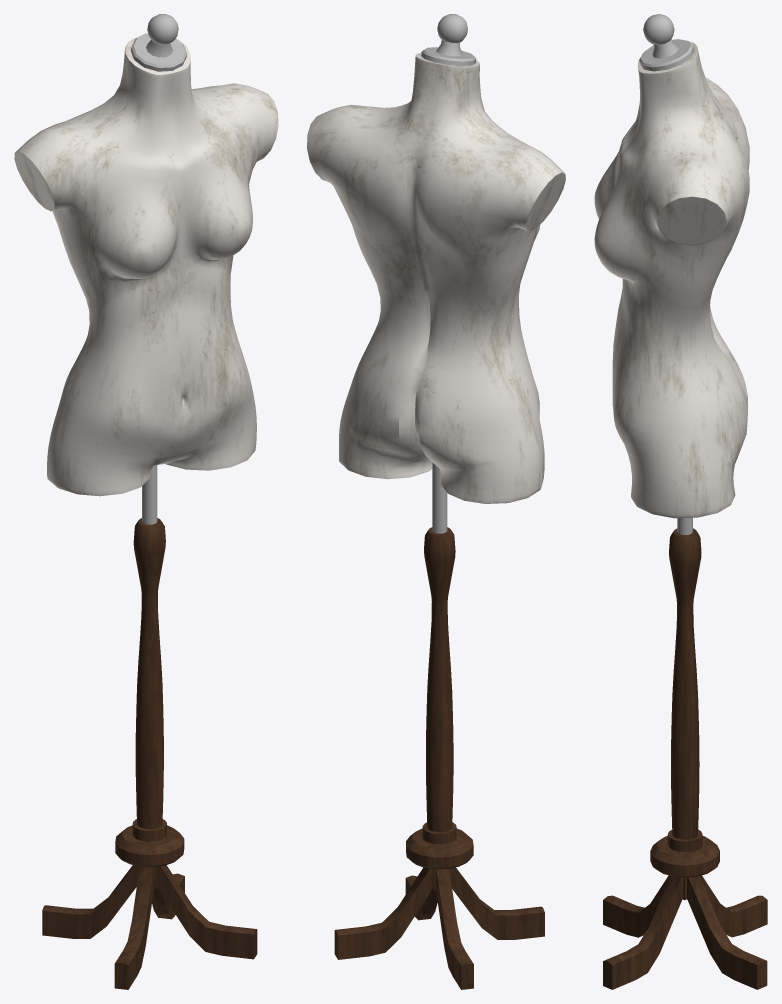
File: girl.glb
3 views of the same model, side by side, from view 1: azimuth 30°, elevation 25°; view 2: azimuth 150°, elevation 25°; view 3: azimuth 270°, elevation 25° (orthographic). The views are drawn at different scales.
Parts seen in each view (by area): view 1: mannequin.001, mannequin; view 2: mannequin.001, mannequin; view 3: mannequin.001, mannequin.
Part boxes in pixels (x1,y1,x2,y2): mannequin.001: (14, 37, 278, 496); mannequin: (42, 14, 257, 989); mannequin.001: (307, 53, 565, 503); mannequin: (334, 14, 544, 989); mannequin.001: (594, 42, 749, 518); mannequin: (603, 14, 767, 989).
Size of the model in its own units: 0.4233 by 1.55 by 0.2593.
Materials: 3 (2 with a texture image).
